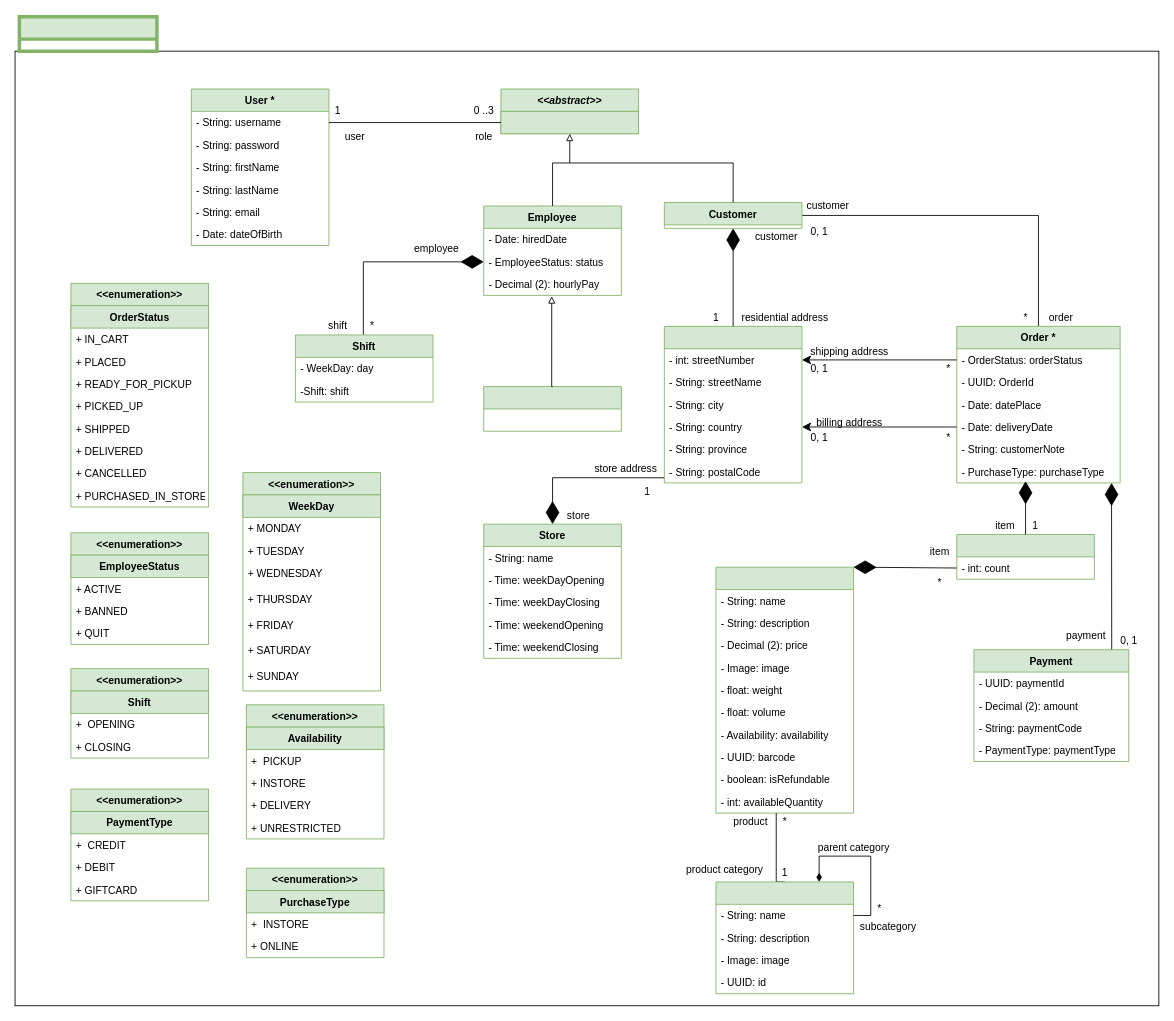
Some shapes in this 1174 by 1021 pixel diagram are drawn without their labels. Each missing label, with the box of its shape:
Address: (663, 326, 802, 483)
CartItem: (956, 534, 1094, 579)
Category *: (715, 881, 854, 994)
Grocery Application: (17, 15, 158, 52)
Manager: (483, 386, 621, 431)
Product *: (715, 566, 854, 813)
UserRole: (500, 111, 639, 134)
